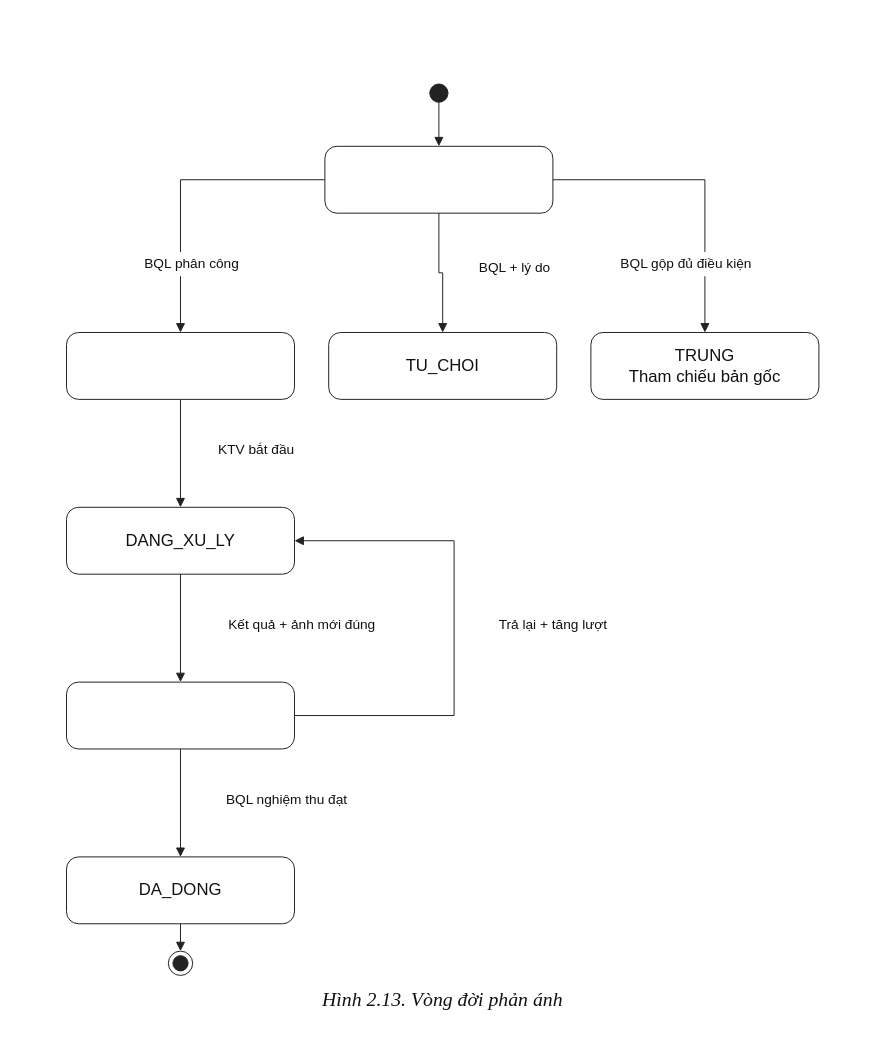
The diagram is 885 pixels wide and 1052 high, and some of its shapes have lost their labels. Each missing label, with the centre of its shape:
DA_PHAN_CONG: the point at 180,366
DA_XU_LY Chờ nghiệm thu: the point at 180,715
MOI Mới tiếp nhận: the point at 438,179
